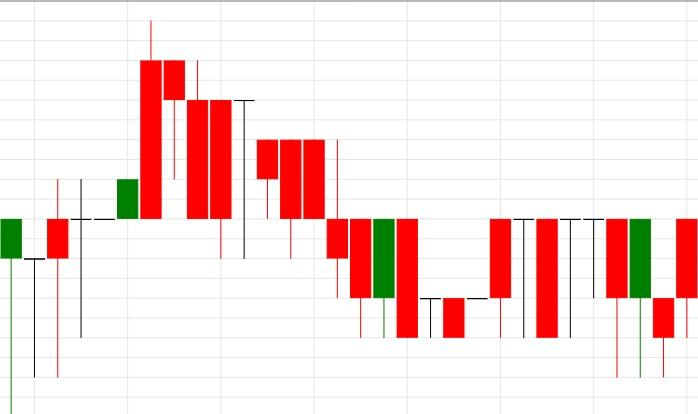bullish_engulfing_rise: (139, 20, 419, 338)
hanging_man_fall: (0, 20, 185, 413)
